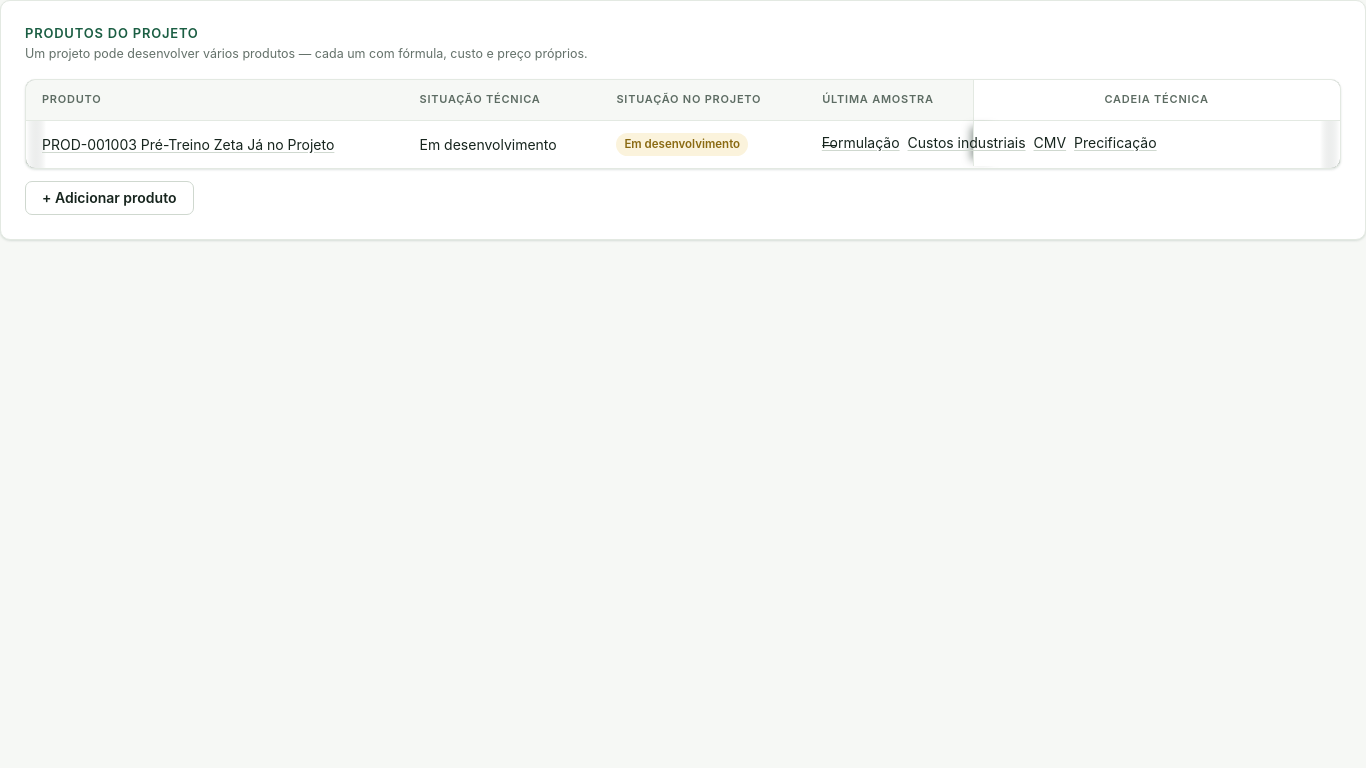
Vincular produto existente — busca no servidor › abre com a primeira página do cliente — 20 — e o resto se alcança buscando
Click the button "+ Adicionar produto". click: (109, 198)
box: [25,181,194,215]
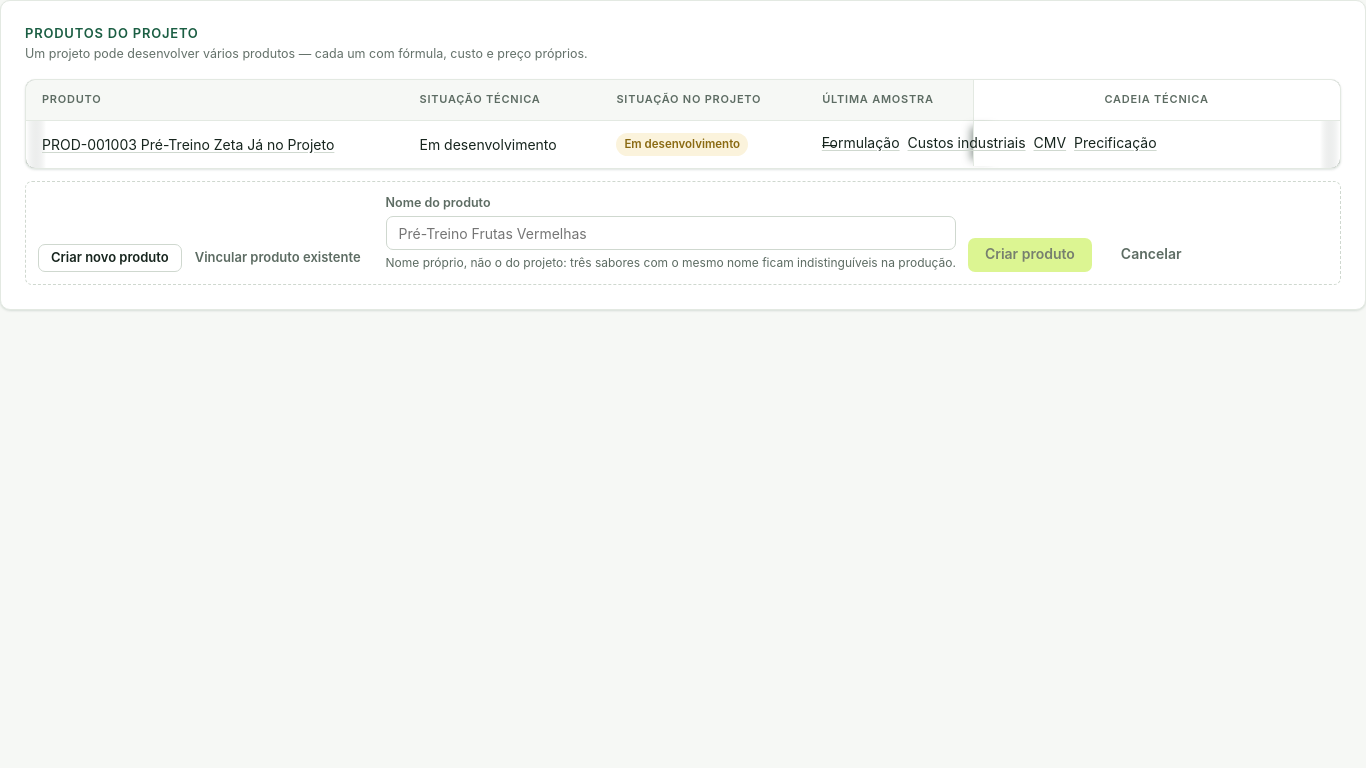
Click the button "Vincular produto existente". click: (278, 258)
box: [182,244,374,272]
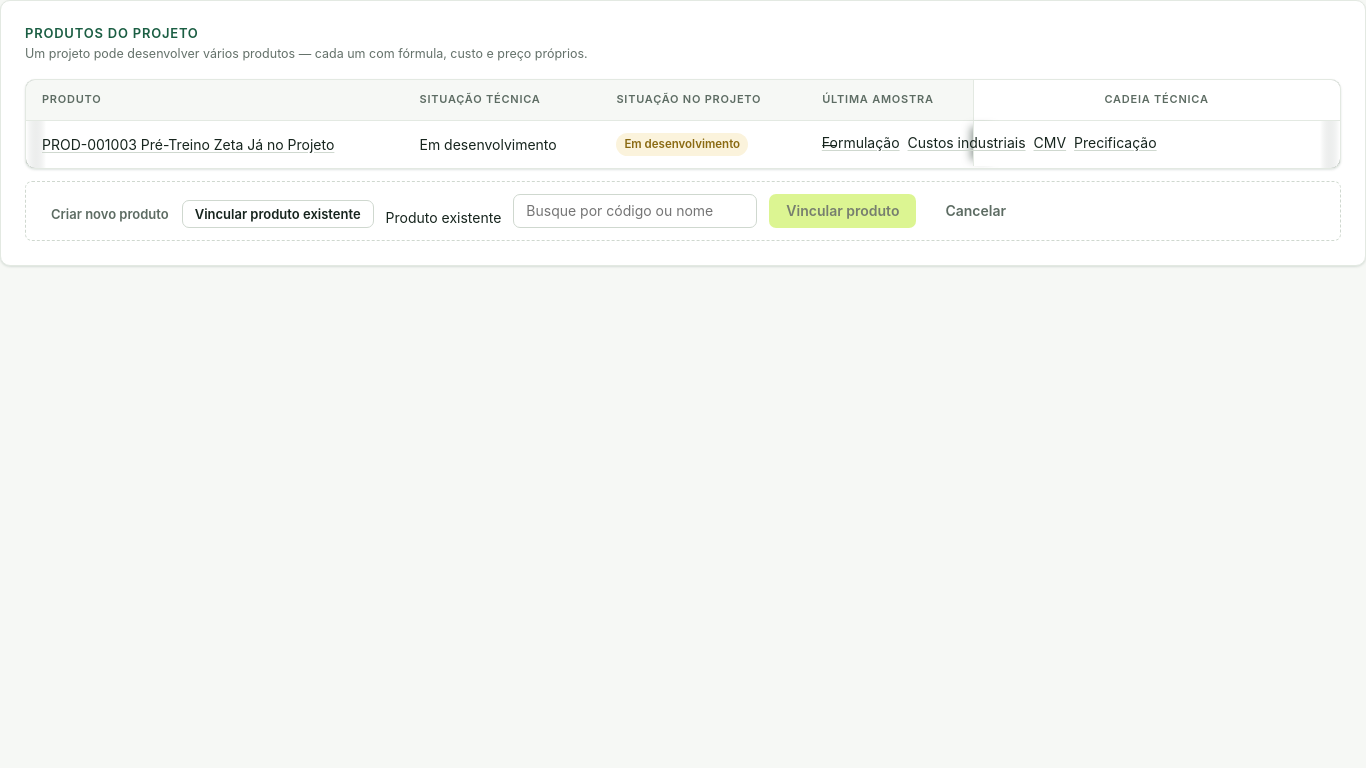
Focus the dropdown labelled "Produto existente". click: (635, 211)
box: [513,194,757,228]
(page scrolled)
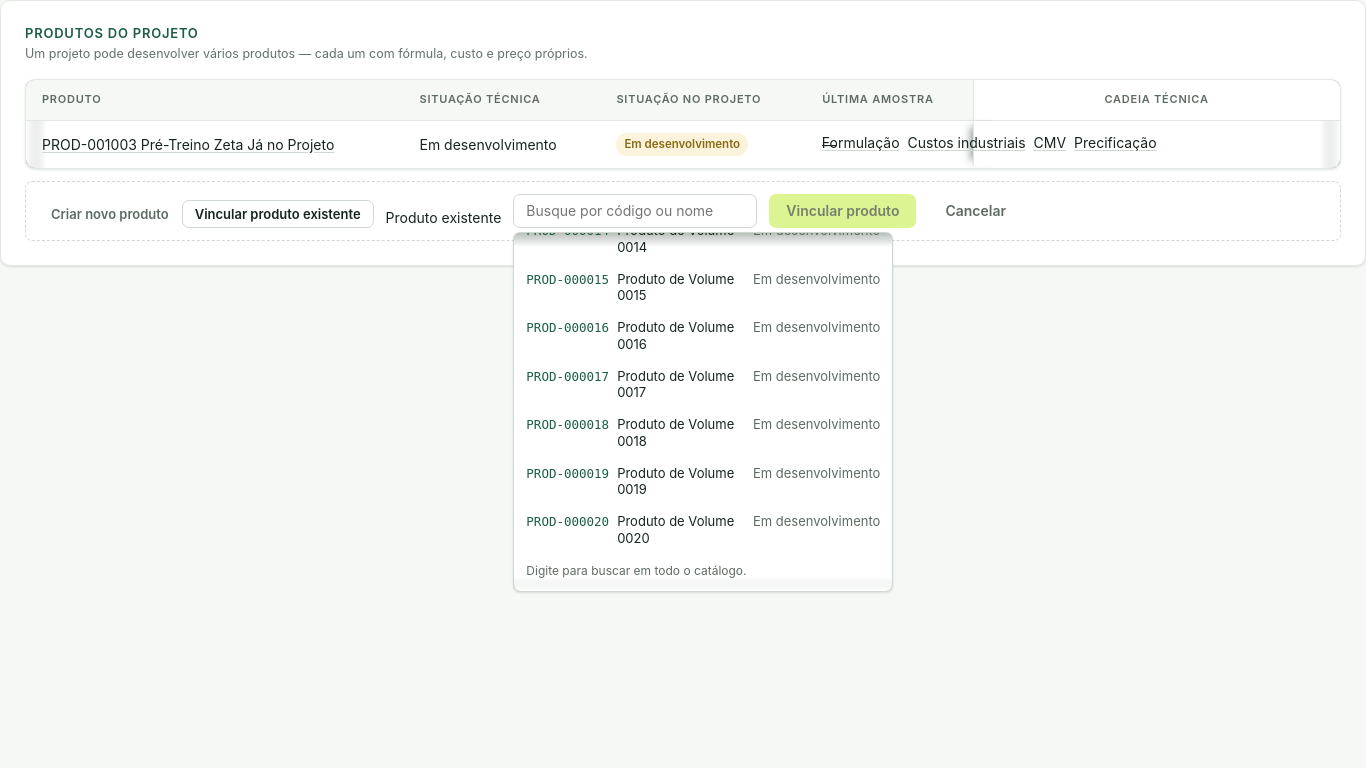
Expected: the list item "Digite para buscar em todo o catálogo." is shown, [526,563,746,578]
